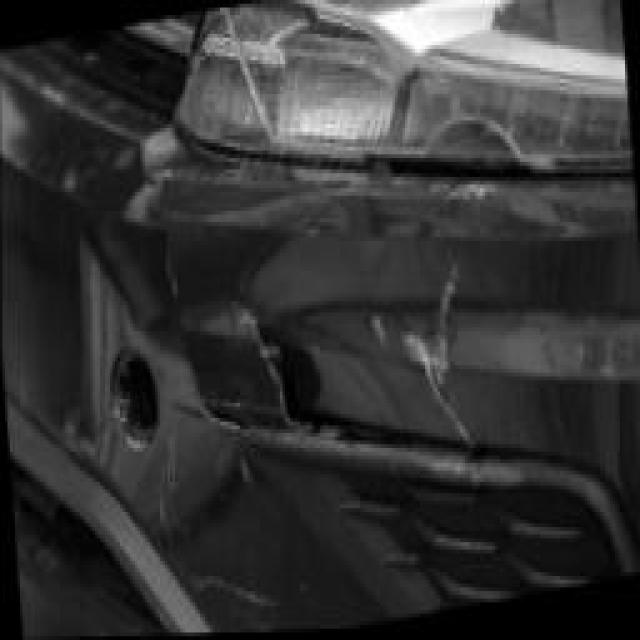Bumper: (110, 136, 542, 636)
